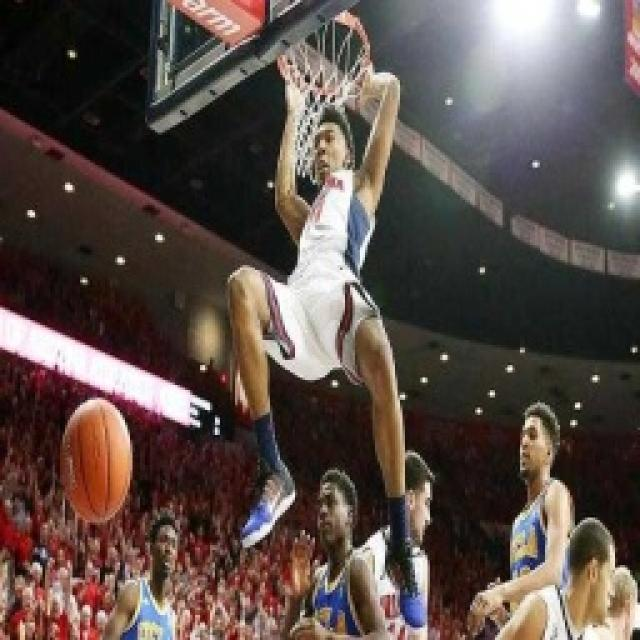rim: (54, 384, 142, 530)
